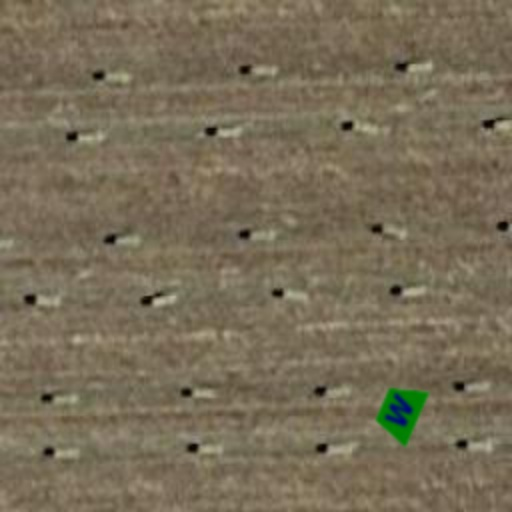trapezoid: (358, 370, 442, 454)
